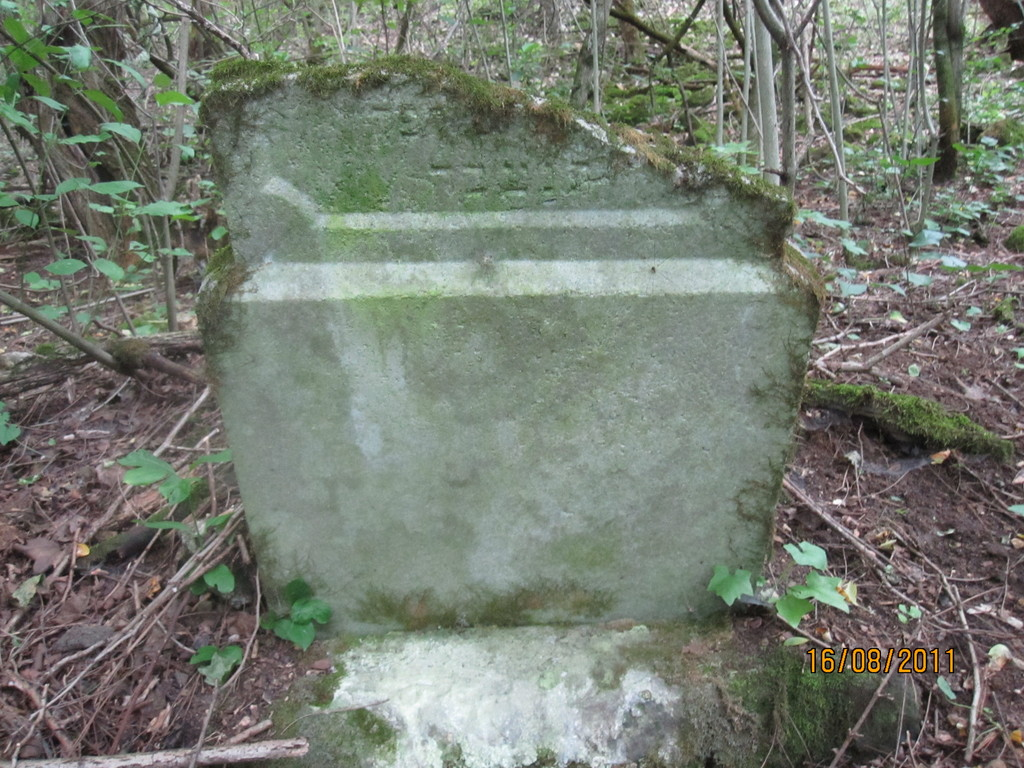Tree: (0, 0, 1024, 262)
